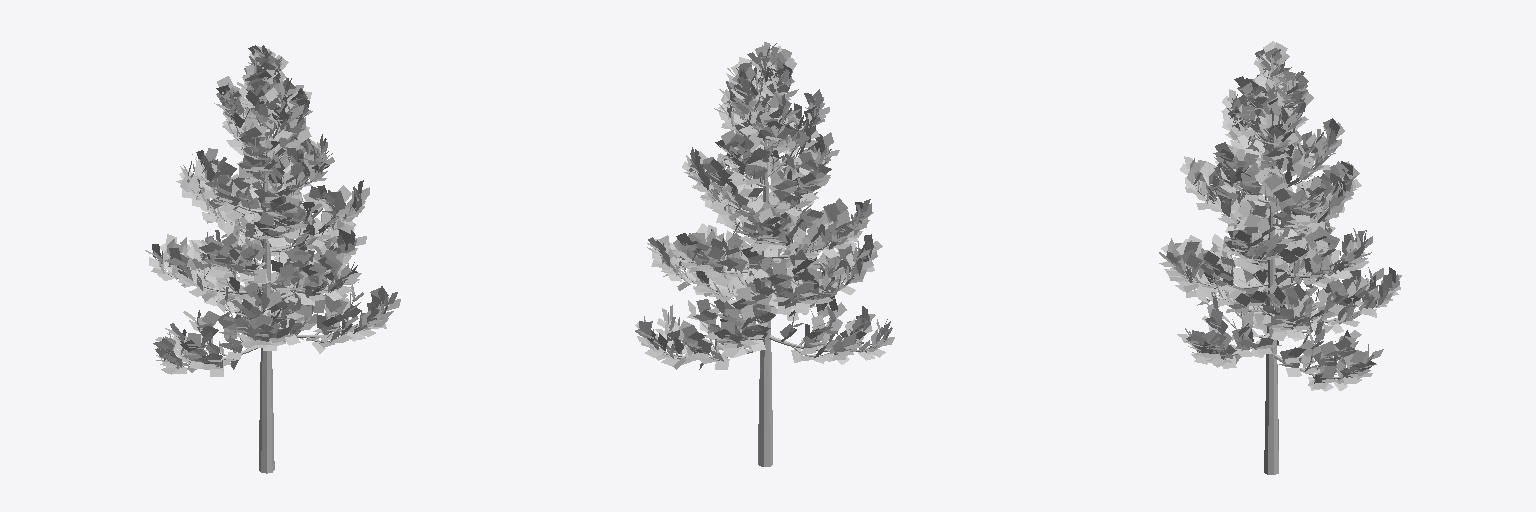
The model's file is tree2.obj.
The picture shows the model from 3 angles: view 1: azimuth 30°, elevation 25°; view 2: azimuth 150°, elevation 25°; view 3: azimuth 270°, elevation 25°; orthographic projection.
Parts seen in each view (by area): view 1: leaves, tree_Mesh; view 2: leaves, tree_Mesh; view 3: leaves, tree_Mesh.
Part boxes in pixels (x1,y1,x2,y2): leaves: (145,45,400,376); tree_Mesh: (158,92,372,473); leaves: (635,42,894,369); tree_Mesh: (649,73,879,466); leaves: (1159,41,1401,391); tree_Mesh: (1170,60,1371,474).
Size of the model in its own units: 0.6396 by 1.15 by 0.6012.